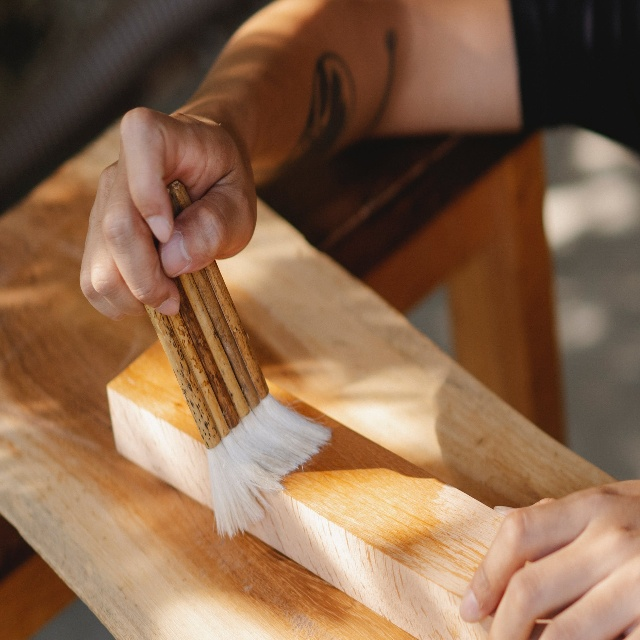Sin_guantes: (78, 102, 261, 322), (459, 479, 640, 640)
